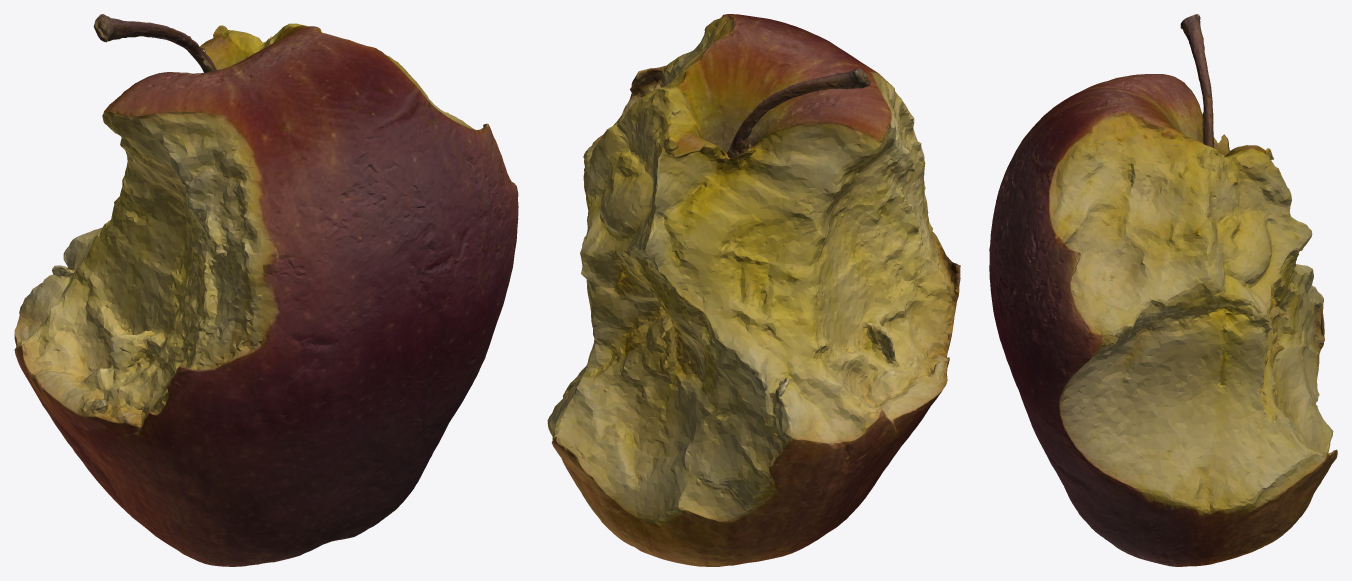
The picture shows the model from 3 angles, left to right: view 1: azimuth 30°, elevation 25°; view 2: azimuth 150°, elevation 25°; view 3: azimuth 270°, elevation 25°; orthographic projection. The views are drawn at different scales.
Parts seen in each view (by area): view 1: Apple_06_Apple_6_u1_v1_0; view 2: Apple_06_Apple_6_u1_v1_0; view 3: Apple_06_Apple_6_u1_v1_0.
Boxes of the visible parts, x1,y1,x2,y2 form: Apple_06_Apple_6_u1_v1_0: (14,14,518,566); Apple_06_Apple_6_u1_v1_0: (547,14,960,566); Apple_06_Apple_6_u1_v1_0: (989,14,1337,566).
Size of the model in its own units: 21.35 by 26.71 by 18.67.
1 material, 1 textured.
